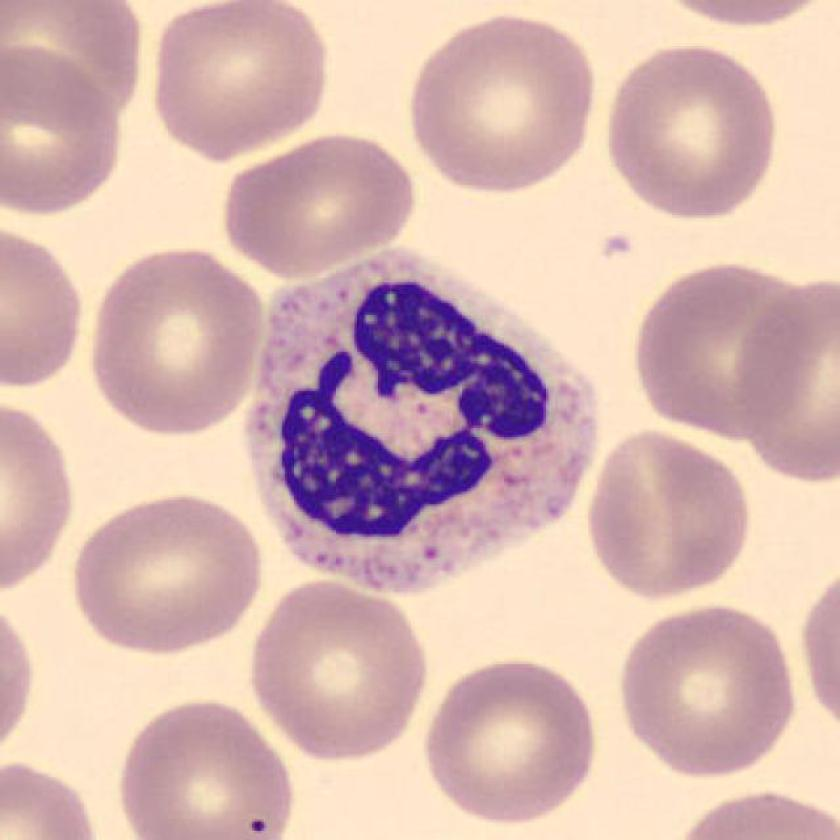neutrophil: (247, 253, 599, 597)
